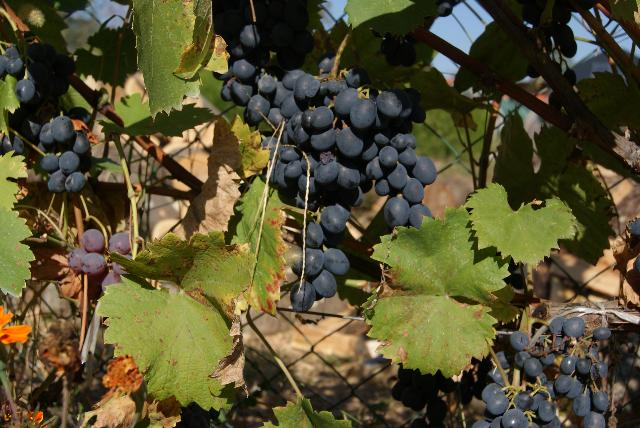grapes: (275, 69, 435, 311), (275, 68, 436, 249), (532, 314, 615, 428), (0, 42, 76, 150), (40, 115, 92, 194), (68, 229, 131, 291), (482, 384, 534, 428)
